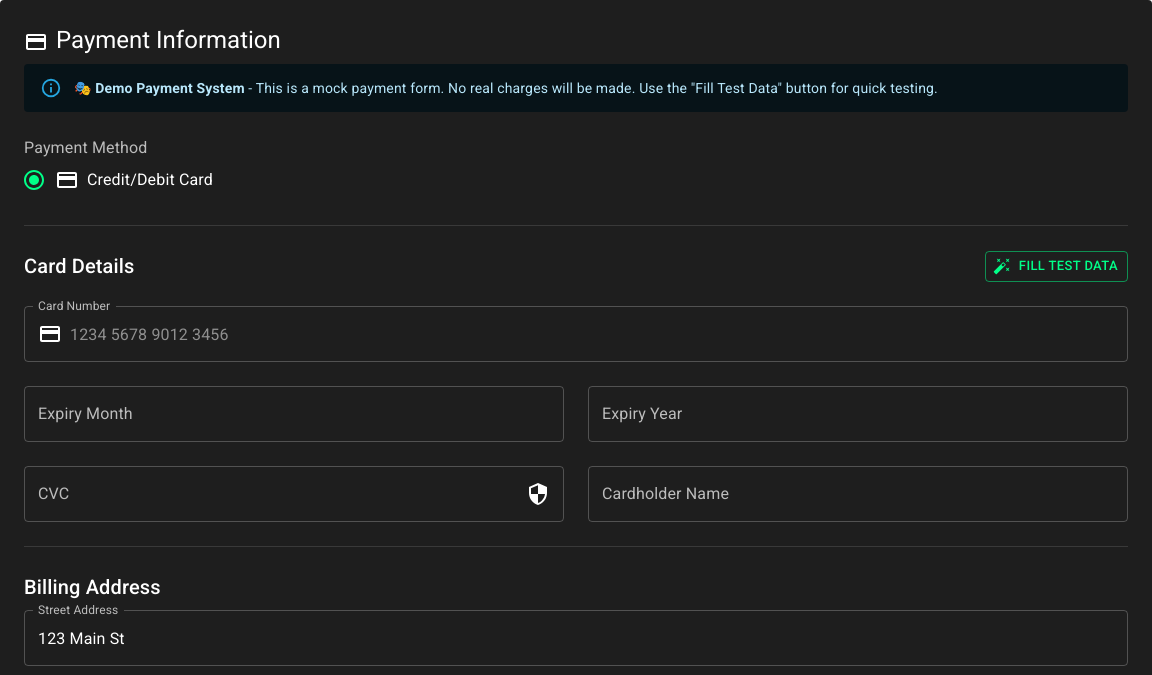
MockPaymentForm Component › detects card brand from card number
The image size is (1152, 675).
Test Visa card
Step 1. Type "4242424242424242" into the field labelled "Card Number" → (599, 334), box [70,306,1128,362]
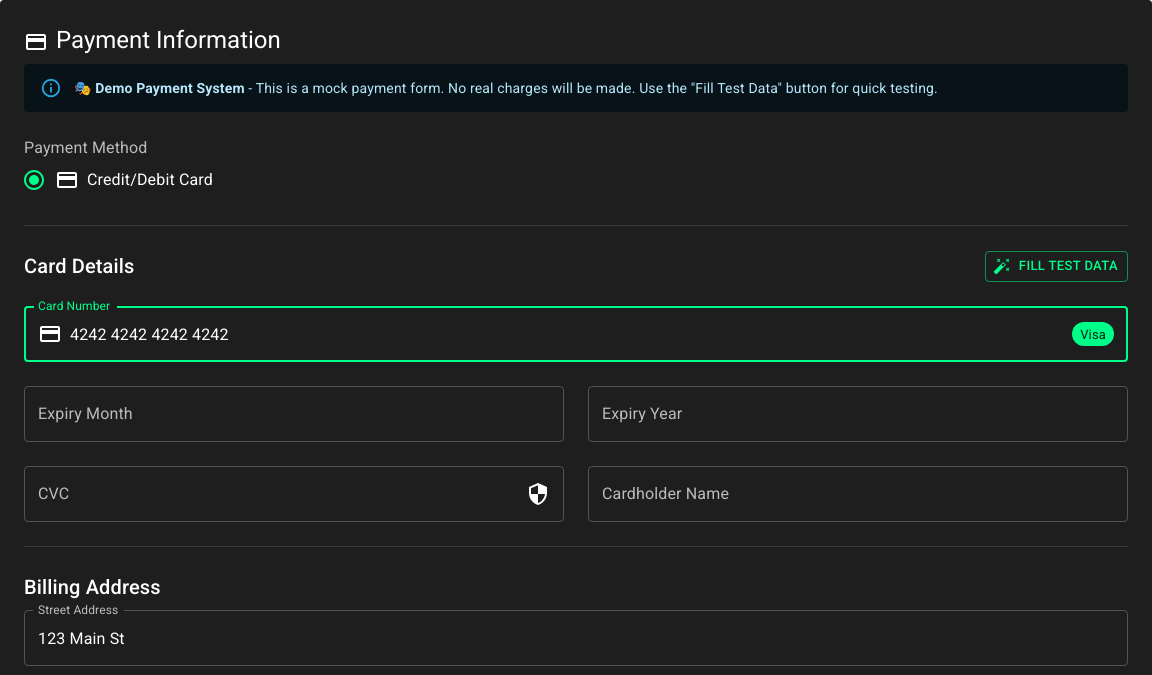
Result: the text "Visa" is shown at [1080,327,1106,342]
Clear and test Mastercard
Step 2. Clear the field labelled "Card Number" → (567, 334), box [70,306,1064,362]
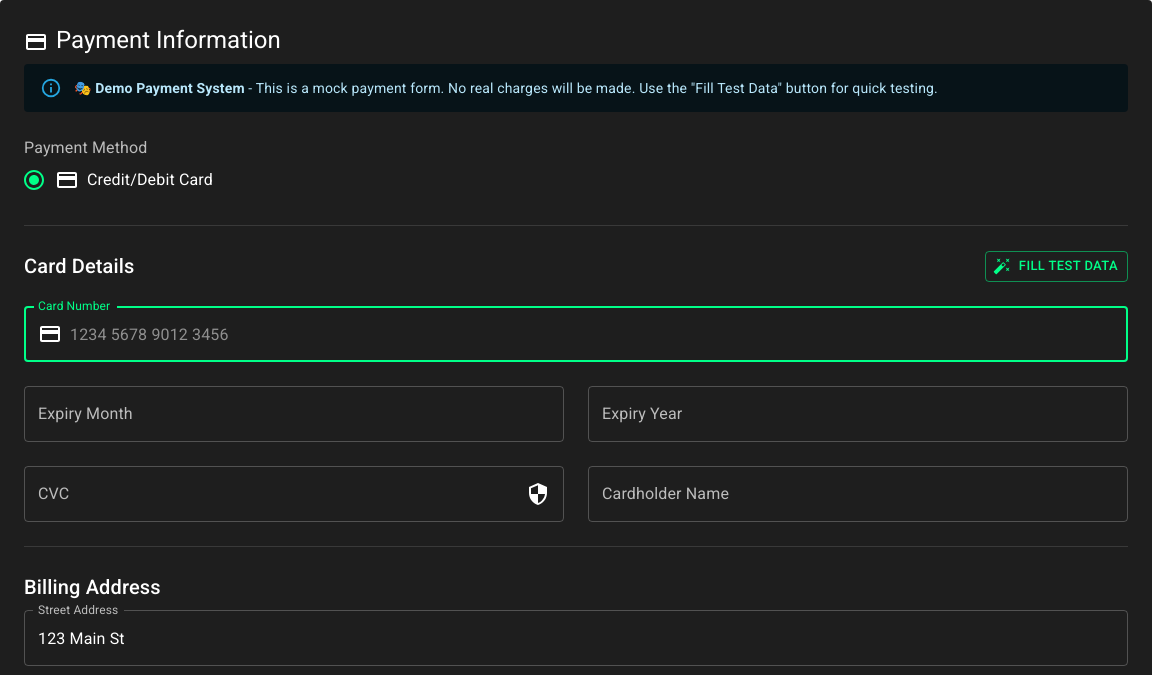
Step 3. Type "5555555555554444" into the field labelled "Card Number" → (599, 334), box [70,306,1128,362]
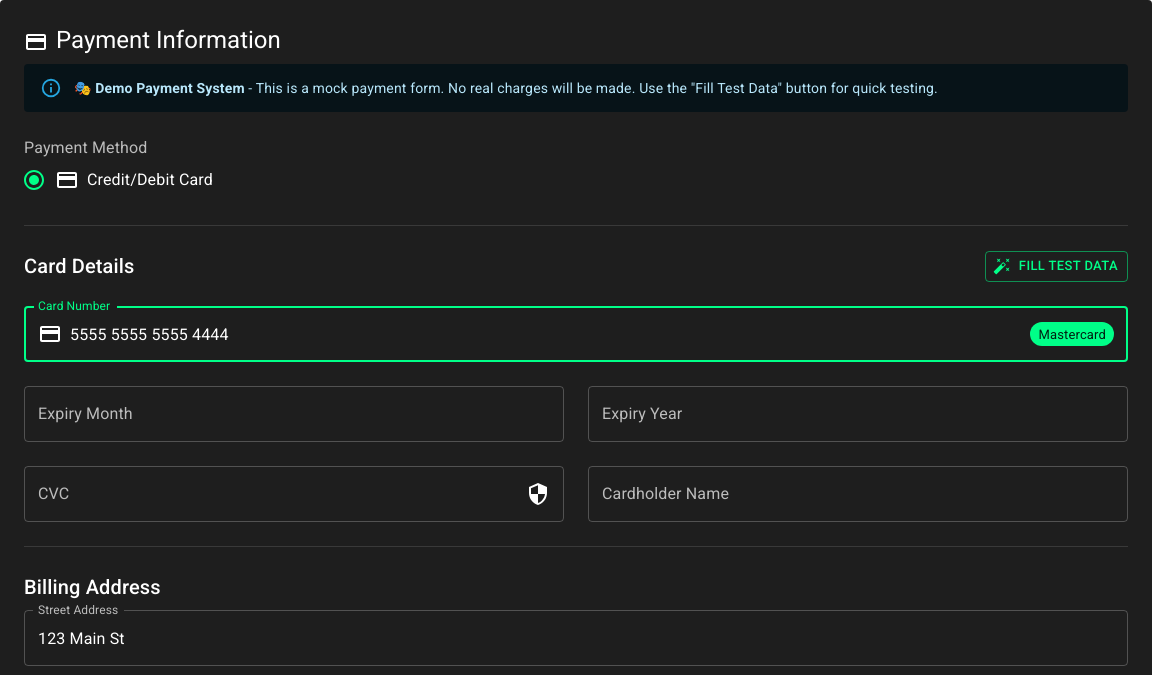
Result: the text "Mastercard" is shown at [1038,327,1106,342]
